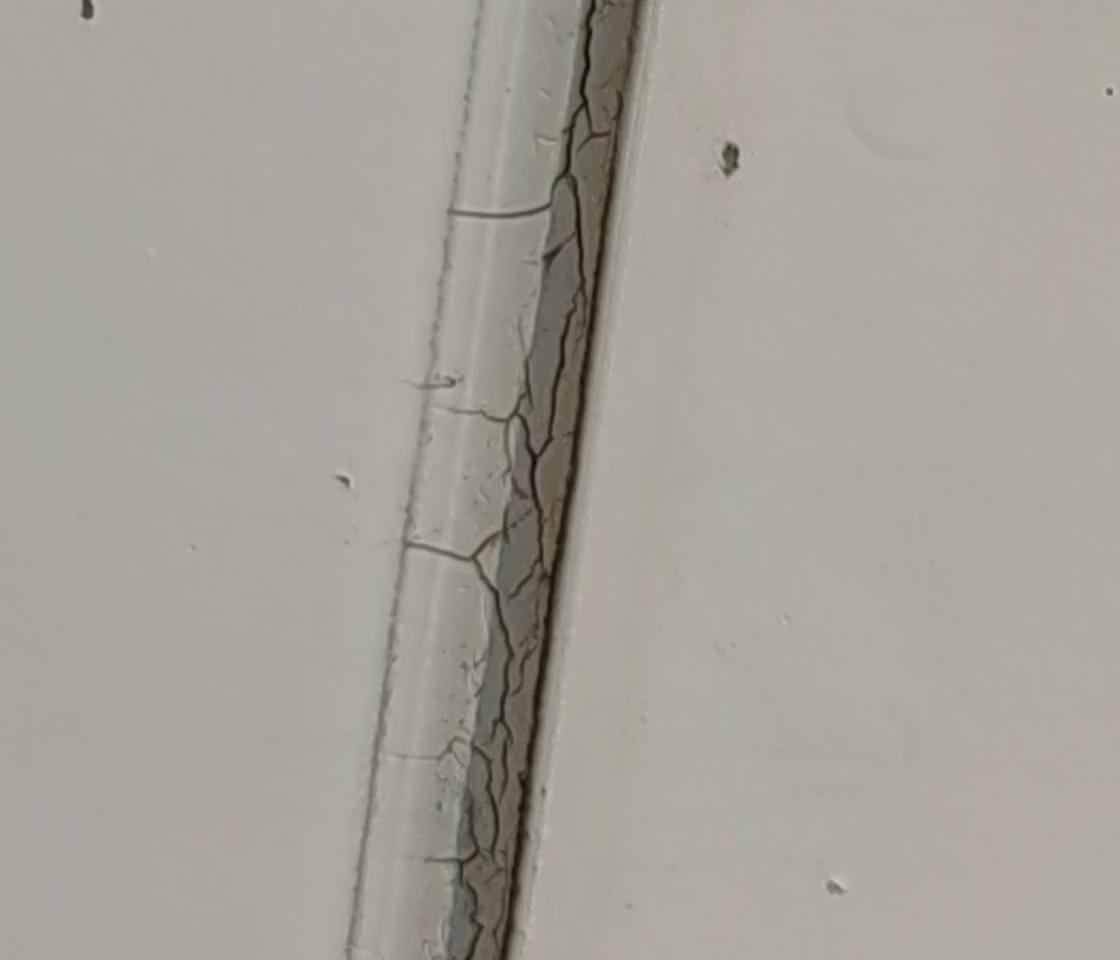paint_peel: (716, 136, 747, 179), (825, 875, 855, 904)
